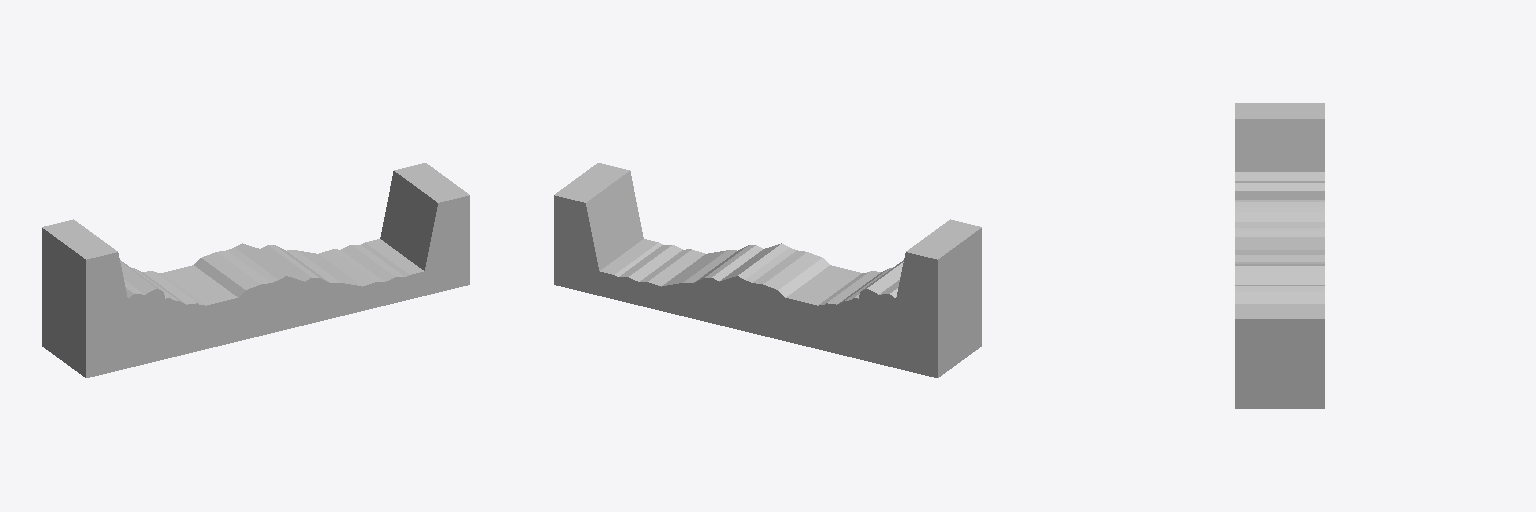
File: grasshopper-collisions.obj
The picture shows the model from 3 angles: view 1: azimuth 30°, elevation 25°; view 2: azimuth 150°, elevation 25°; view 3: azimuth 270°, elevation 25°; orthographic projection.
Visible parts, largest first — view 1: 02.Ground.054_Cube.4118; view 2: 02.Ground.054_Cube.4118; view 3: 02.Ground.054_Cube.4118.
Part boxes in pixels (left/top/right/bottom): 02.Ground.054_Cube.4118: left=42, top=163, right=469, bottom=377; 02.Ground.054_Cube.4118: left=554, top=163, right=981, bottom=377; 02.Ground.054_Cube.4118: left=1235, top=103, right=1324, bottom=408.
Bounding box in the file's own units: 35.86 × 10.59 × 7.2.